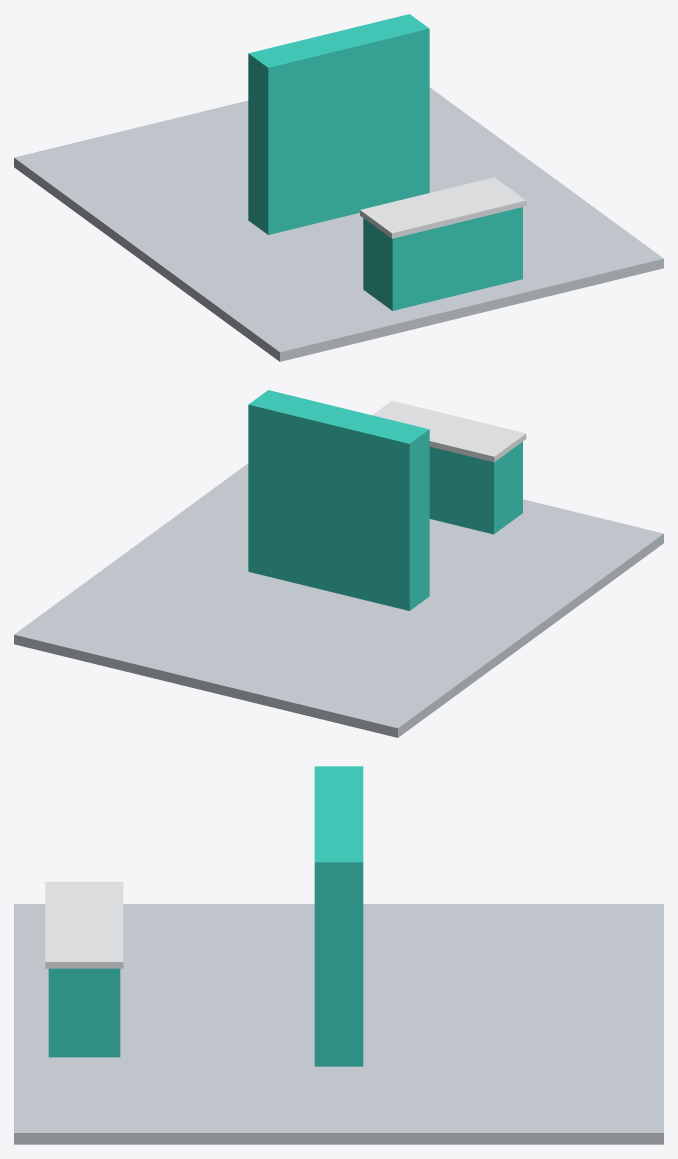
The picture shows the model from 3 angles, top to bottom: view 1: azimuth 30°, elevation 25°; view 2: azimuth 150°, elevation 25°; view 3: azimuth 270°, elevation 25°; orthographic projection. The views are drawn at different scales.
Visible parts, largest first — view 1: Exhibition Booth Concept; view 2: Exhibition Booth Concept; view 3: Exhibition Booth Concept.
Boxes of the visible parts, x1=… form: Exhibition Booth Concept: x1=14, y1=14, x2=663, y2=361; Exhibition Booth Concept: x1=14, y1=390, x2=663, y2=737; Exhibition Booth Concept: x1=14, y1=766, x2=663, y2=1144.
Size of the model in its own units: 5 by 2.2 by 6.
